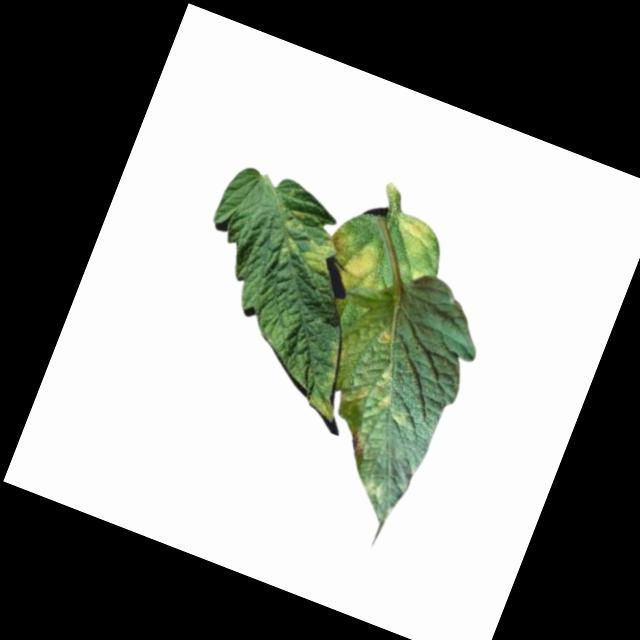Leaf_Mold: (317, 232, 395, 306), (273, 219, 340, 276), (349, 353, 407, 416), (385, 210, 437, 260), (338, 424, 372, 468), (372, 324, 395, 348)
